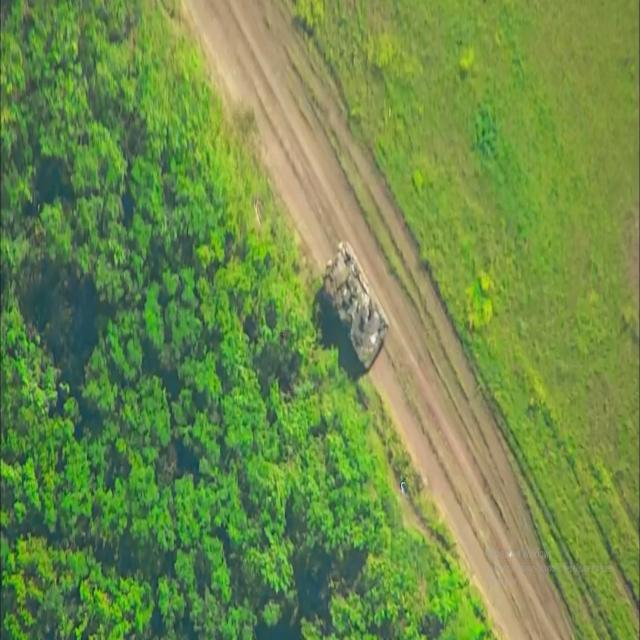AIFV: (321, 242, 391, 376)
